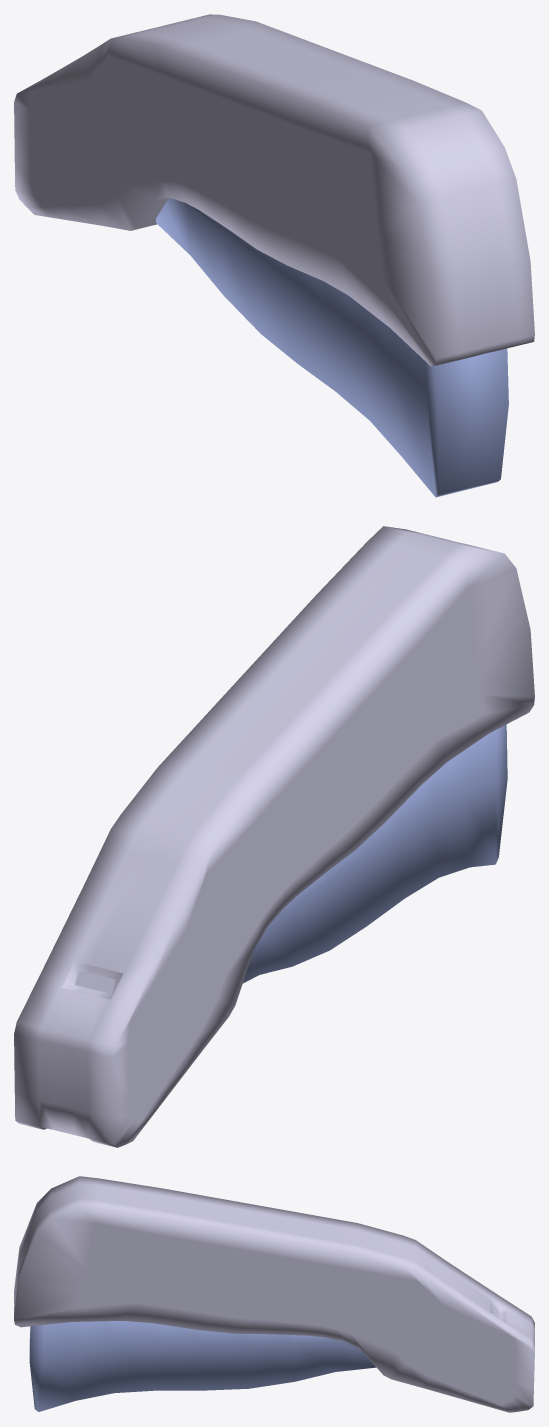
The model's file is MedicalStaplerRiggedNONTEXTURESfbx.fbx.
3 renders of one model, top to bottom at view 1: azimuth 30°, elevation 25°; view 2: azimuth 150°, elevation 25°; view 3: azimuth 270°, elevation 25°, orthographic. The views are drawn at different scales.
Parts seen in each view (by area): view 1: StaplerShell, Trigger; view 2: StaplerShell, Trigger; view 3: StaplerShell, Trigger.
Part boxes in pixels (left/top/right/bottom): StaplerShell: left=14, top=14, right=534, bottom=366; Trigger: left=156, top=198, right=508, bottom=497; StaplerShell: left=14, top=526, right=534, bottom=1147; Trigger: left=243, top=724, right=507, bottom=983; StaplerShell: left=14, top=1176, right=534, bottom=1412; Trigger: left=29, top=1321, right=376, bottom=1411.
Bounding box in the file's own units: 9.01 × 29.99 × 66.86.
